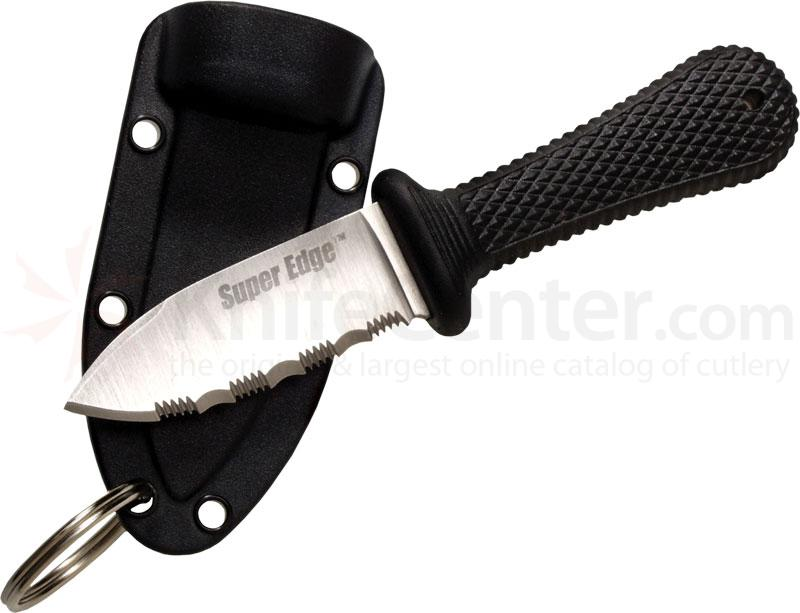knife: (57, 196, 449, 426)
